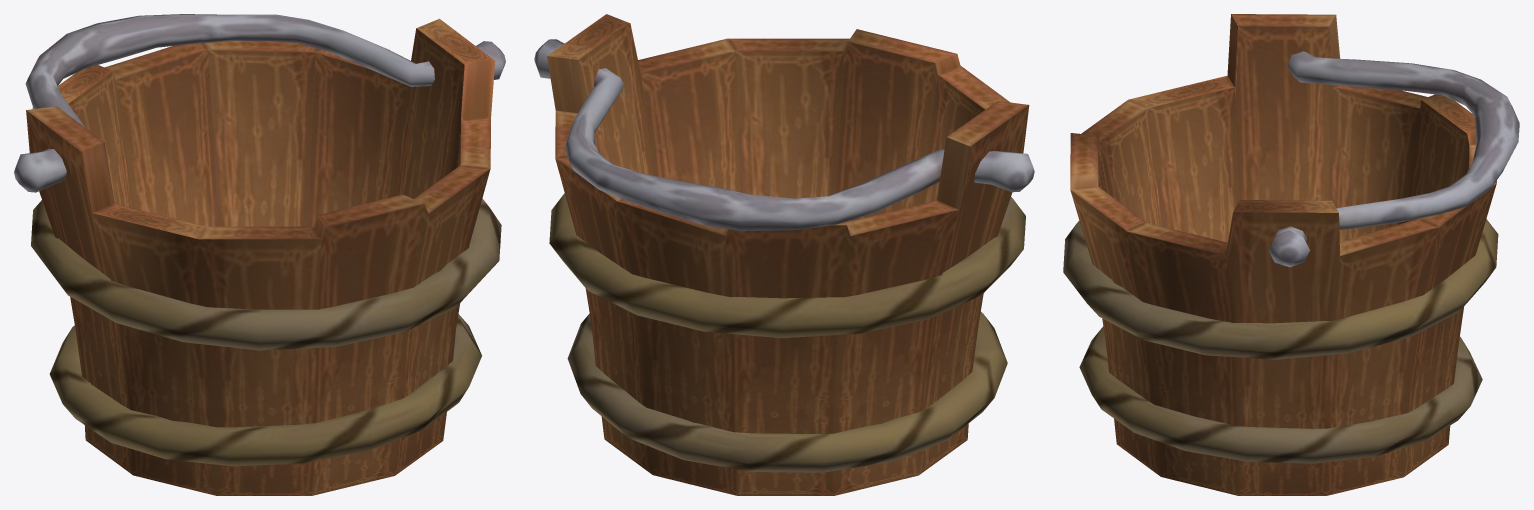
File: Bucket_Wooden_1.glb
3 views of the same model, side by side, from view 1: azimuth 30°, elevation 25°; view 2: azimuth 150°, elevation 25°; view 3: azimuth 270°, elevation 25° (orthographic). The views are drawn at different scales.
Parts seen in each view (by area): view 1: Bucket_Wooden_1; view 2: Bucket_Wooden_1; view 3: Bucket_Wooden_1.
Part boxes in pixels (x1,y1,x2,y2): Bucket_Wooden_1: (14,14,505,495); Bucket_Wooden_1: (534,14,1034,495); Bucket_Wooden_1: (1063,14,1519,495).
Bounding box in the file's own units: 0.4339 × 0.2928 × 0.3835.
2 materials, 2 textured.
